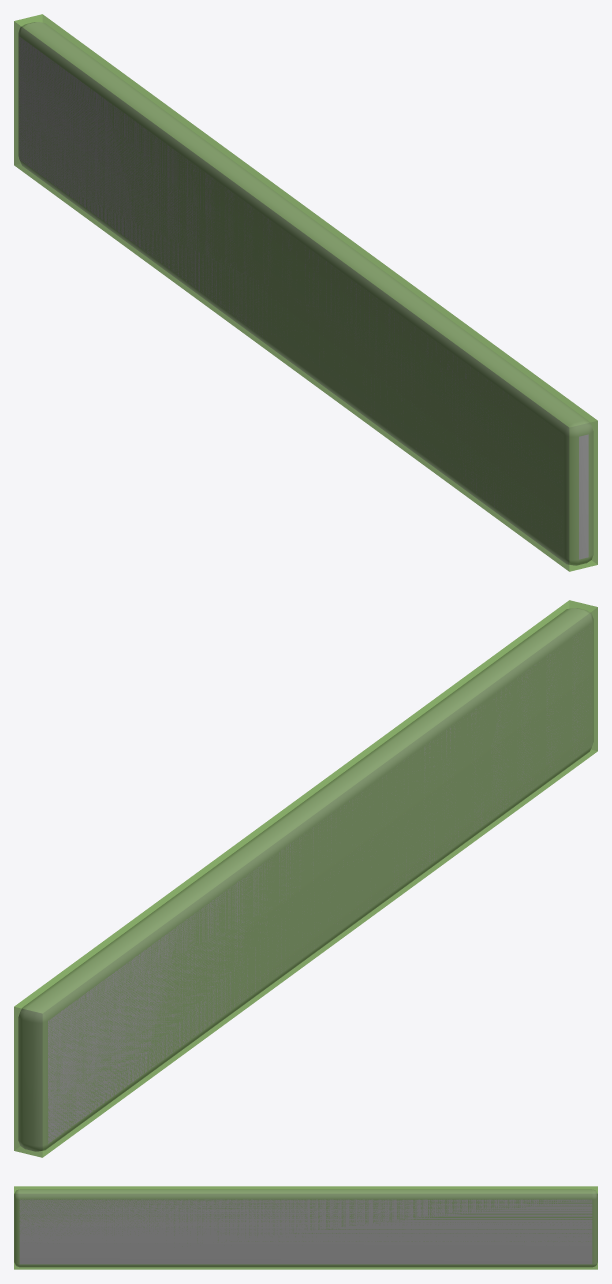
Rendered from M_md_ShutterMetal_end_50cm.fbx.
3 renders of one model, top to bottom at view 1: azimuth 30°, elevation 25°; view 2: azimuth 150°, elevation 25°; view 3: azimuth 270°, elevation 25°, orthographic. The views are drawn at different scales.
Visible parts, largest first — view 1: M_md_ShutterMetal_end_50cm_col_01, M_md_ShutterMetal_end_50cm_LOD0; view 2: M_md_ShutterMetal_end_50cm_col_01, M_md_ShutterMetal_end_50cm_LOD0; view 3: M_md_ShutterMetal_end_50cm_LOD0, M_md_ShutterMetal_end_50cm_col_01.
Boxes of the visible parts, bbox=[...] form: M_md_ShutterMetal_end_50cm_col_01: bbox=[14, 14, 597, 571]; M_md_ShutterMetal_end_50cm_LOD0: bbox=[18, 22, 593, 565]; M_md_ShutterMetal_end_50cm_col_01: bbox=[14, 600, 597, 1157]; M_md_ShutterMetal_end_50cm_LOD0: bbox=[18, 608, 593, 1151]; M_md_ShutterMetal_end_50cm_LOD0: bbox=[14, 1189, 597, 1267]; M_md_ShutterMetal_end_50cm_col_01: bbox=[14, 1186, 597, 1269].
Size of what is drawn, in the model's own units: 1.51 by 7.3 by 50.96.
